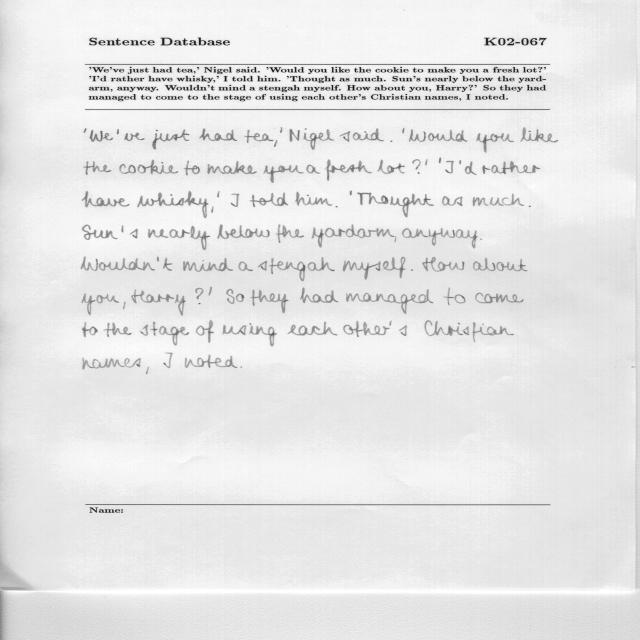word: (276, 225, 395, 248), (346, 289, 433, 314), (424, 321, 514, 343), (137, 191, 209, 218), (357, 193, 434, 218), (258, 257, 334, 281), (402, 228, 478, 248), (131, 289, 186, 316), (343, 257, 406, 280), (81, 257, 173, 271), (223, 323, 277, 346), (140, 322, 189, 346), (326, 159, 373, 181), (343, 321, 407, 337), (289, 128, 334, 150), (169, 226, 210, 250), (250, 290, 289, 314), (119, 160, 178, 175), (82, 294, 119, 316), (83, 191, 130, 208), (473, 258, 528, 272), (477, 133, 515, 153), (409, 129, 467, 142), (482, 161, 540, 174), (83, 357, 141, 370), (152, 130, 189, 150), (263, 165, 304, 183), (218, 225, 270, 239), (183, 258, 233, 272), (288, 322, 338, 336), (185, 355, 238, 368), (207, 161, 257, 174), (422, 257, 465, 272), (340, 128, 384, 142), (473, 194, 524, 206), (300, 287, 338, 303), (521, 128, 558, 143), (82, 225, 118, 240), (475, 293, 524, 304), (250, 193, 288, 207), (295, 192, 332, 206), (199, 128, 237, 141), (443, 288, 466, 306), (196, 320, 214, 343), (103, 323, 132, 337), (377, 160, 405, 174), (84, 161, 111, 175), (244, 130, 273, 143), (117, 129, 145, 141), (89, 130, 113, 142), (226, 289, 245, 304), (459, 160, 477, 175), (184, 161, 200, 176), (83, 322, 98, 337), (121, 226, 138, 239), (442, 196, 463, 206), (148, 229, 169, 238), (195, 288, 204, 305), (238, 261, 253, 271), (163, 353, 173, 368), (412, 159, 421, 174), (307, 165, 321, 174), (231, 193, 240, 207), (445, 161, 454, 174), (209, 287, 212, 296), (274, 140, 277, 147), (211, 206, 214, 213), (123, 302, 126, 309), (146, 367, 149, 374), (217, 191, 220, 197), (280, 128, 283, 133), (402, 128, 405, 133), (395, 236, 397, 243), (425, 159, 427, 165), (84, 128, 86, 133), (439, 158, 441, 163), (350, 191, 352, 195), (411, 269, 413, 271), (240, 366, 242, 368), (390, 141, 393, 142), (336, 206, 338, 207), (529, 206, 531, 207), (480, 239, 482, 240)
